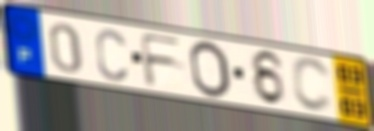0: (46, 21, 85, 74)
6: (250, 49, 286, 108)
C: (290, 55, 336, 115), (94, 27, 130, 83)
F: (137, 31, 186, 89)
O: (187, 39, 234, 100)
